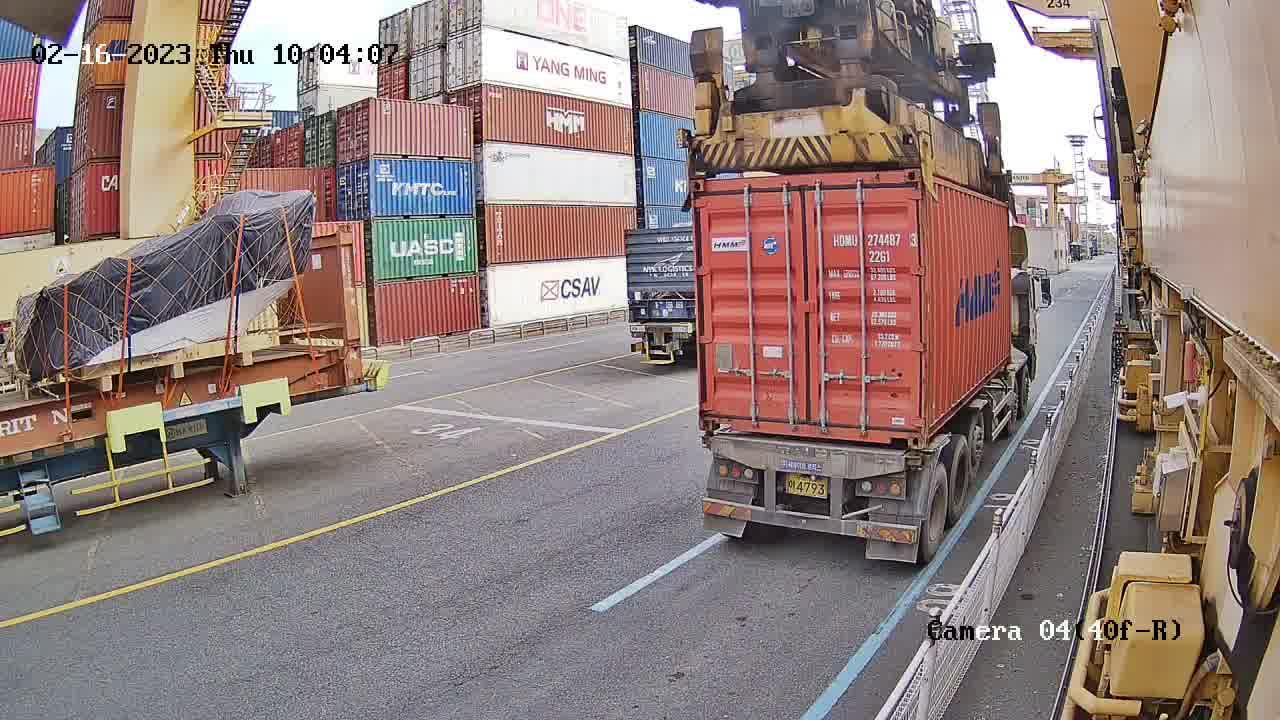Chassis: (701, 438, 921, 479)
Cone: (904, 449, 923, 471), (699, 432, 714, 453)
Hole_L: (697, 398, 736, 433)
Hole_R: (884, 413, 924, 451)
Tire: (922, 469, 949, 560), (951, 443, 969, 512), (970, 414, 985, 468)
